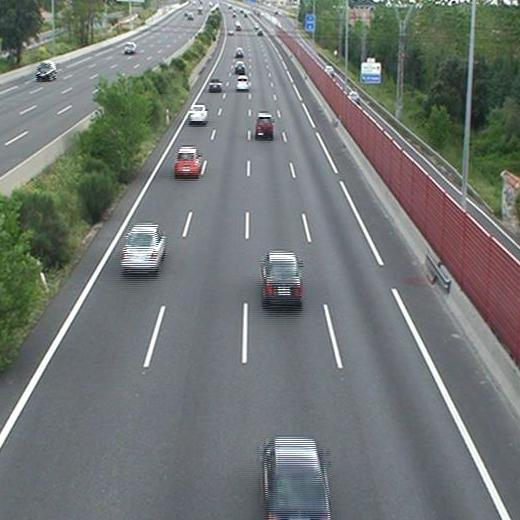car: (263, 437, 330, 520), (121, 224, 165, 271), (261, 252, 301, 302), (174, 147, 200, 176), (255, 113, 273, 137), (189, 105, 208, 121), (208, 79, 221, 92), (236, 76, 248, 90), (234, 61, 245, 72), (236, 48, 243, 58)
